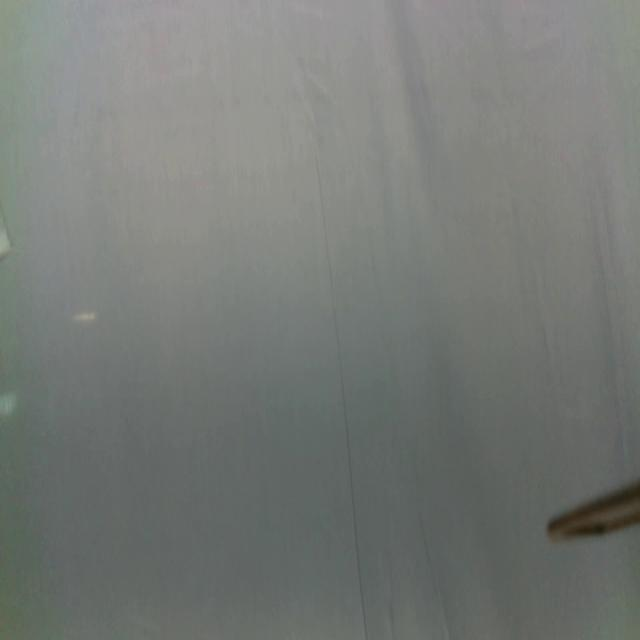crease: (314, 150, 368, 640), (594, 208, 627, 490), (416, 504, 453, 640)
